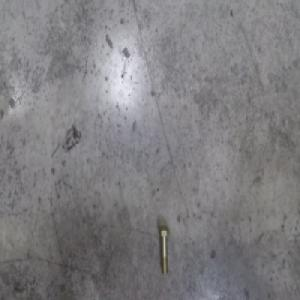Bolt: (158, 225, 170, 275)
